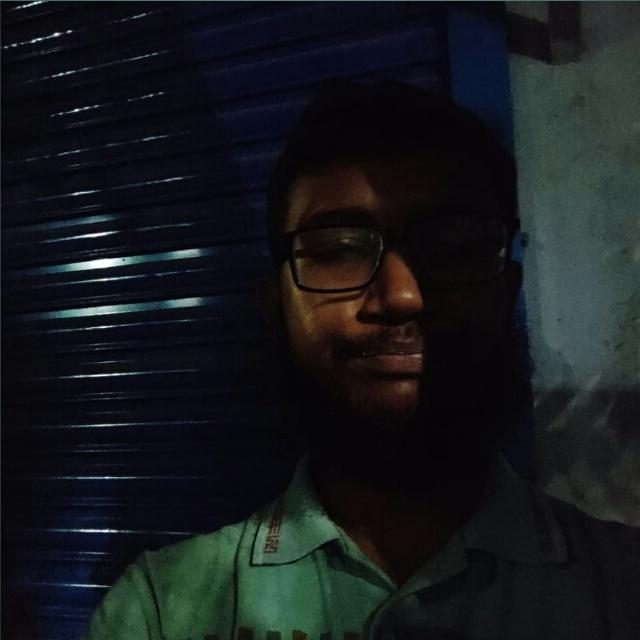Sad: (223, 93, 636, 467)
